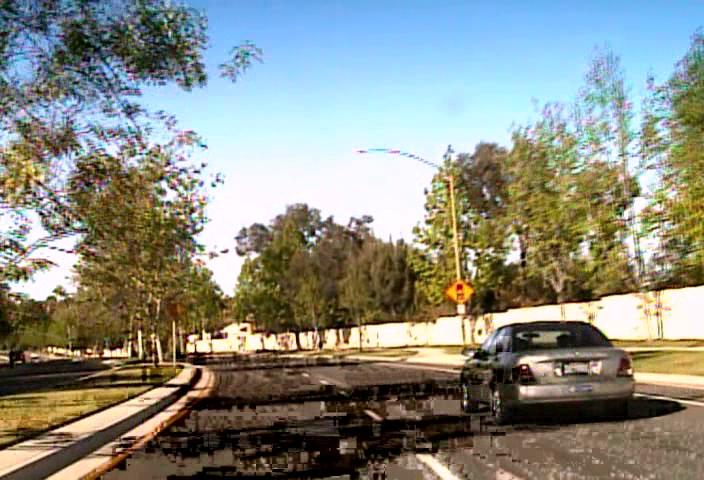signalAhead: (444, 278, 474, 304)
